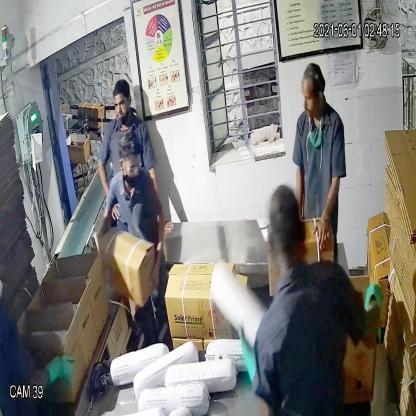no_goggles: (299, 87, 329, 107), (119, 158, 144, 180), (110, 94, 133, 116)
